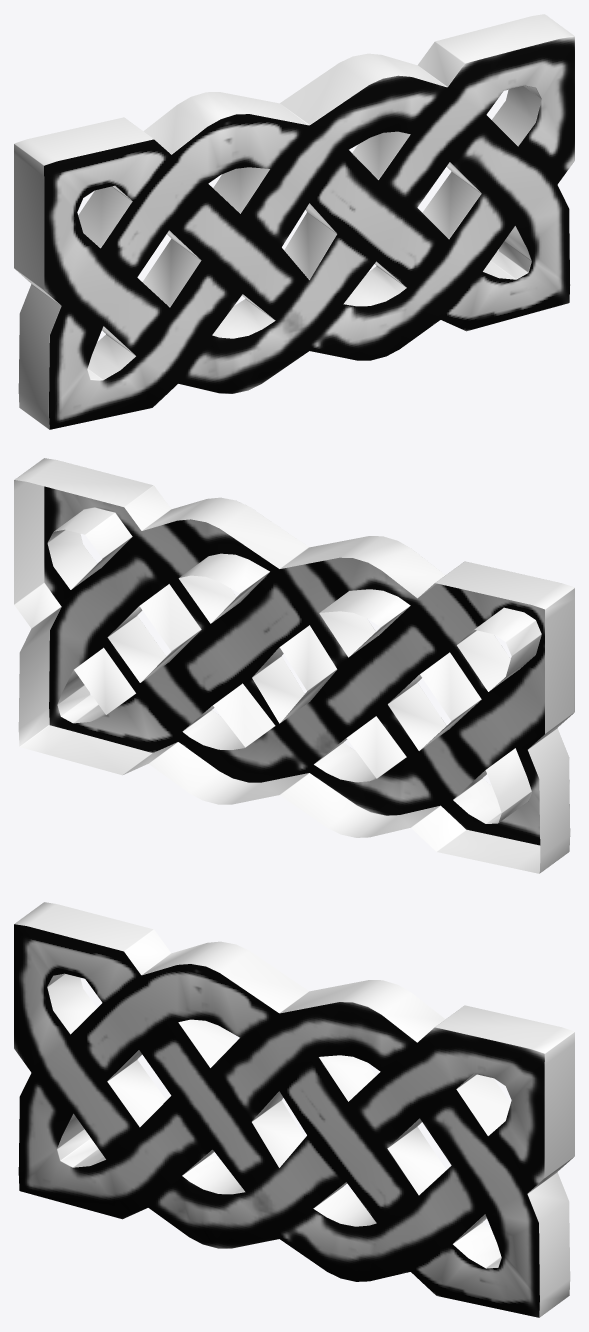
The model's file is Hor.fbx.
3 views of the same model, one above another, from view 1: azimuth 30°, elevation 25°; view 2: azimuth 150°, elevation 25°; view 3: azimuth 330°, elevation 25° (orthographic).
Parts seen in each view (by area): view 1: Hor; view 2: Hor; view 3: Hor.
Part boxes in pixels (x1,y1,x2,y2): Hor: (14, 14, 574, 429); Hor: (14, 458, 574, 873); Hor: (14, 902, 574, 1317).
Size of the model in its own units: 29.09 by 14.62 by 2.85.
